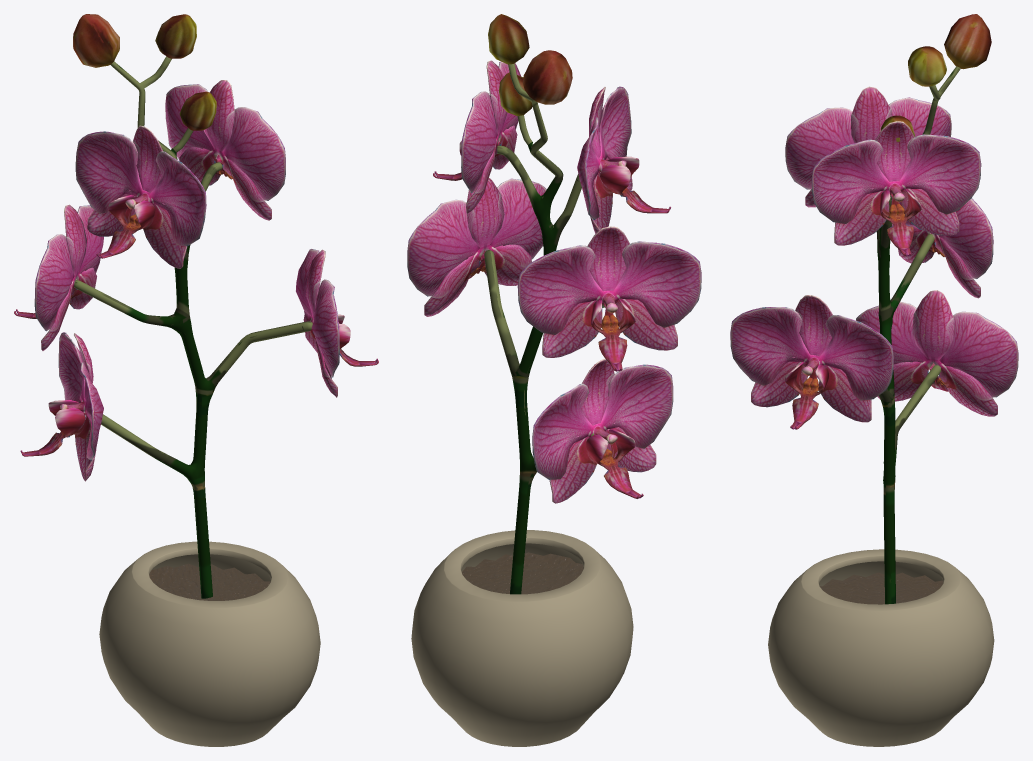
The model's file is orchidea.glb.
3 renders of one model, left to right at view 1: azimuth 30°, elevation 25°; view 2: azimuth 150°, elevation 25°; view 3: azimuth 270°, elevation 25°, orthographic. The views are drawn at different scales.
Visible parts, largest first — view 1: Piantina_Orchidea; view 2: Piantina_Orchidea; view 3: Piantina_Orchidea.
Part boxes in pixels (box(x1,y1,x2,y2)): Piantina_Orchidea: box(14, 14, 378, 746); Piantina_Orchidea: box(407, 14, 701, 746); Piantina_Orchidea: box(730, 14, 1018, 746).
Size of the model in its own units: 31.17 by 69.18 by 26.84.
5 materials, 4 textured.
